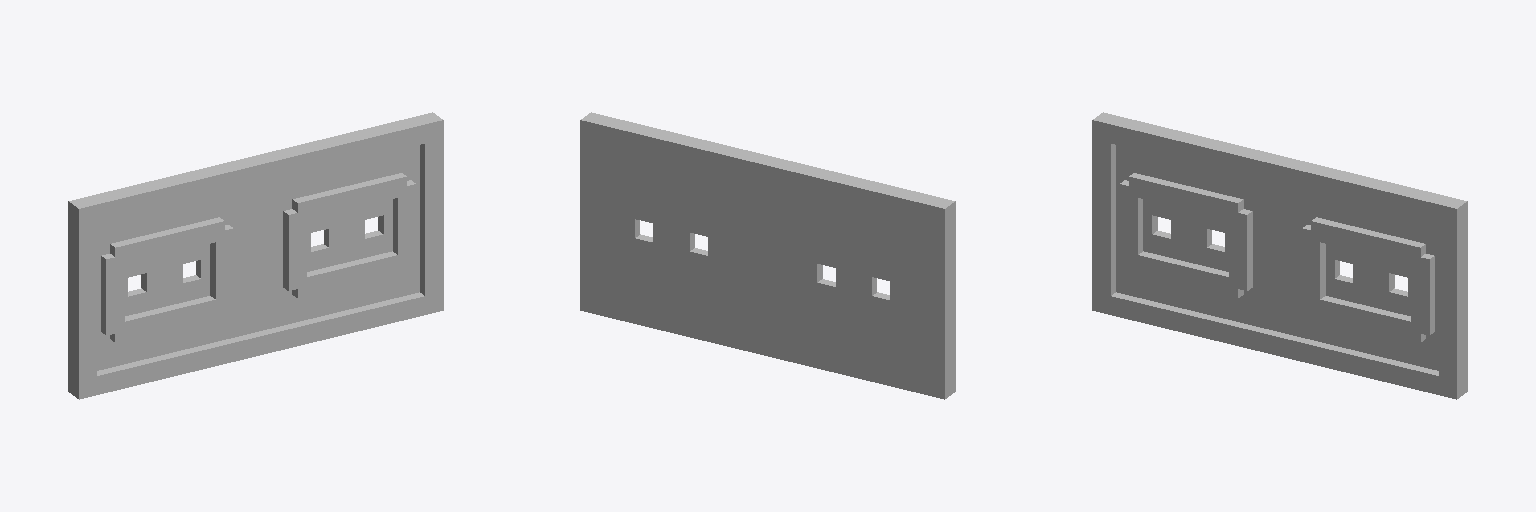
File: socket.obj
The picture shows the model from 3 angles: view 1: azimuth 30°, elevation 25°; view 2: azimuth 150°, elevation 25°; view 3: azimuth 330°, elevation 25°; orthographic projection.
Parts seen in each view (by area): view 1: socket; view 2: socket; view 3: socket.
Part boxes in pixels (left/top/right/bottom): socket: left=68, top=112, right=443, bottom=399; socket: left=580, top=112, right=955, bottom=399; socket: left=1092, top=112, right=1467, bottom=399.
Size of the model in its own units: 40 by 20 by 2.